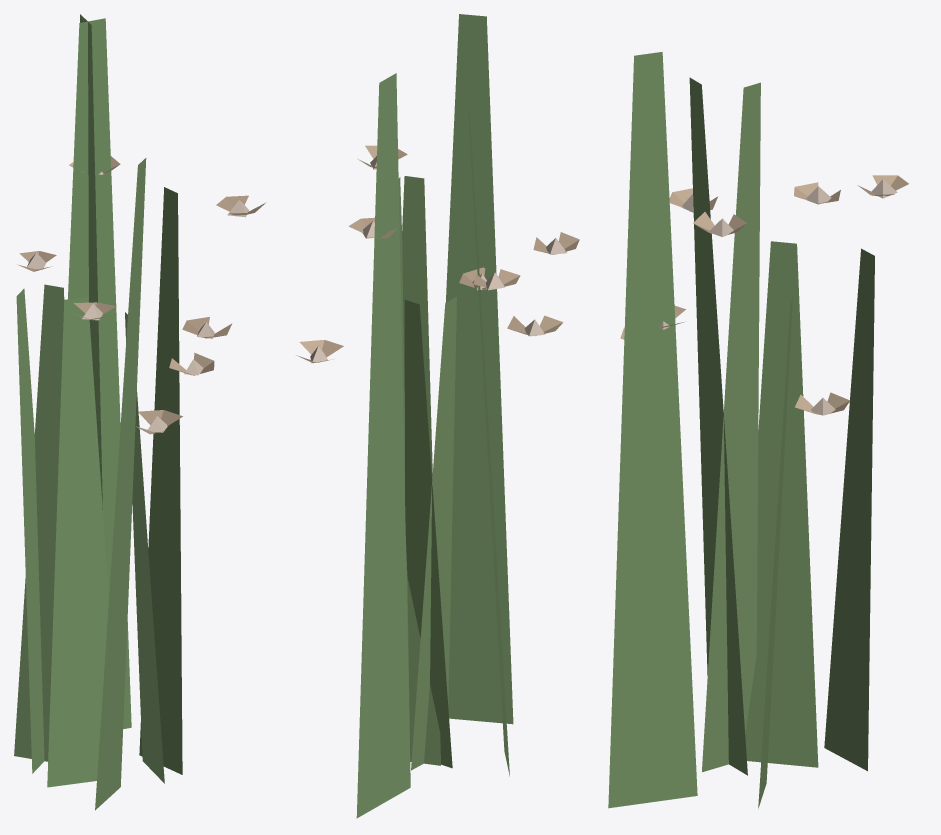
Rendered from shui.pucao@flowering__bloom.glb.
3 views of the same model, side by side, from view 1: azimuth 30°, elevation 25°; view 2: azimuth 150°, elevation 25°; view 3: azimuth 270°, elevation 25° (orthographic). The views are drawn at different scales.
Parts seen in each view (by area): view 1: shui.pucao@flowering__bloom; view 2: shui.pucao@flowering__bloom; view 3: shui.pucao@flowering__bloom.
Part boxes in pixels (x1,y1,x2,y2): shui.pucao@flowering__bloom: (14, 14, 266, 810); shui.pucao@flowering__bloom: (296, 14, 579, 818); shui.pucao@flowering__bloom: (608, 52, 908, 808).
Size of the model in its own units: 0.6695 by 2.11 by 0.7877.
